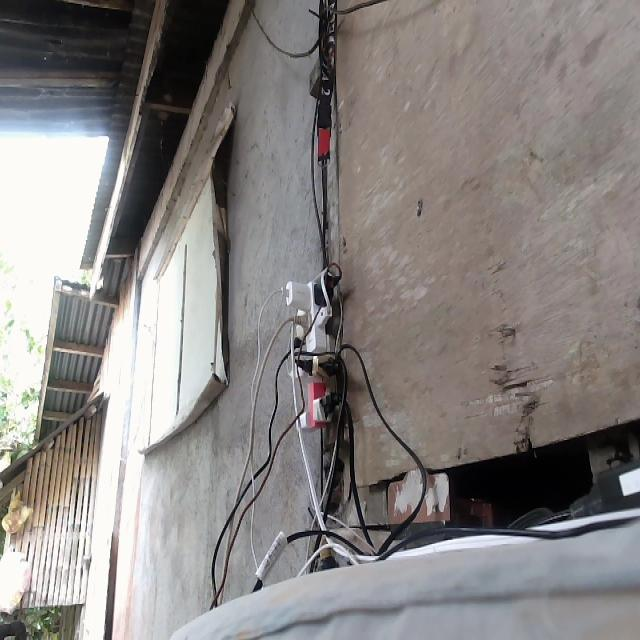-: (273, 265, 351, 428)
